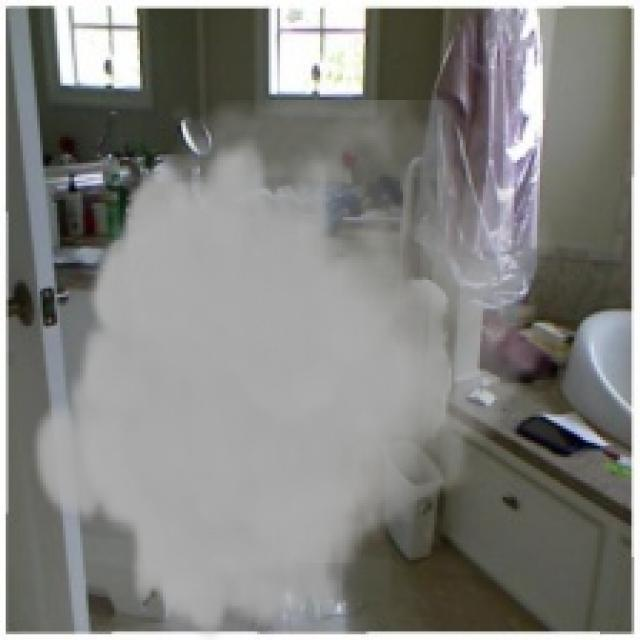Smoke: (29, 100, 572, 637)
